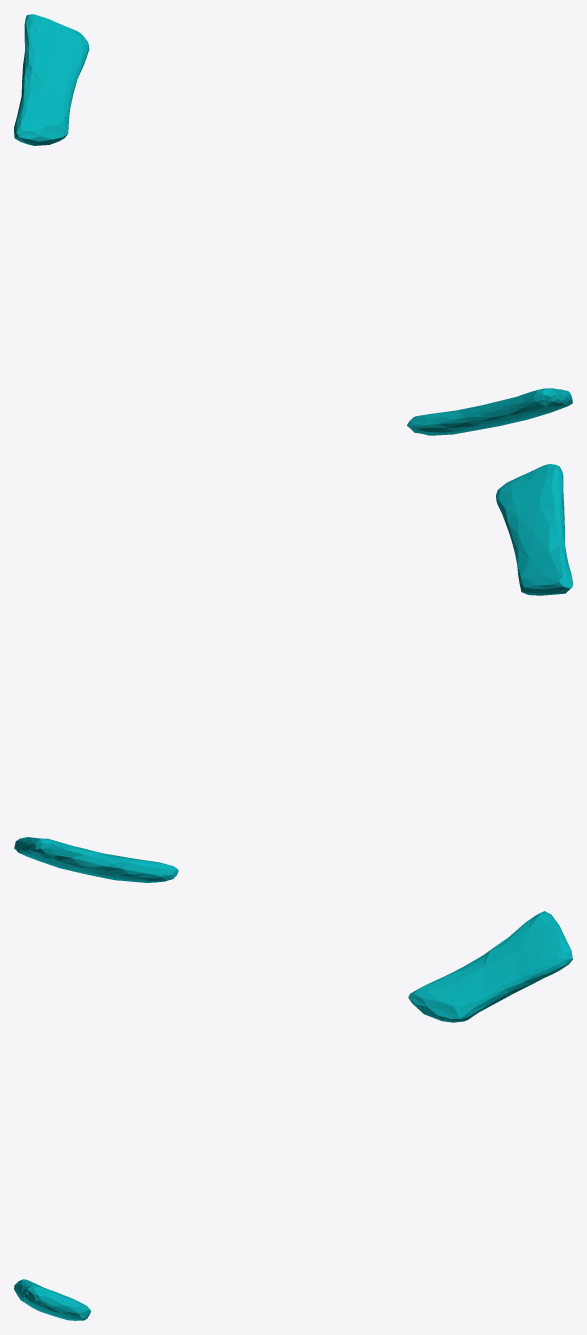
3 views of the same model, one above another, from view 1: azimuth 30°, elevation 25°; view 2: azimuth 150°, elevation 25°; view 3: azimuth 330°, elevation 25° (orthographic).
Visible parts, largest first — view 1: 312782620.obj; view 2: 312782620.obj; view 3: 312782620.obj.
Part boxes in pixels (x1,y1,x2,y2): 312782620.obj: (14, 14, 572, 435); 312782620.obj: (14, 464, 572, 882); 312782620.obj: (14, 911, 572, 1320).
Size of the model in its own units: 878 by 544 by 6659.
